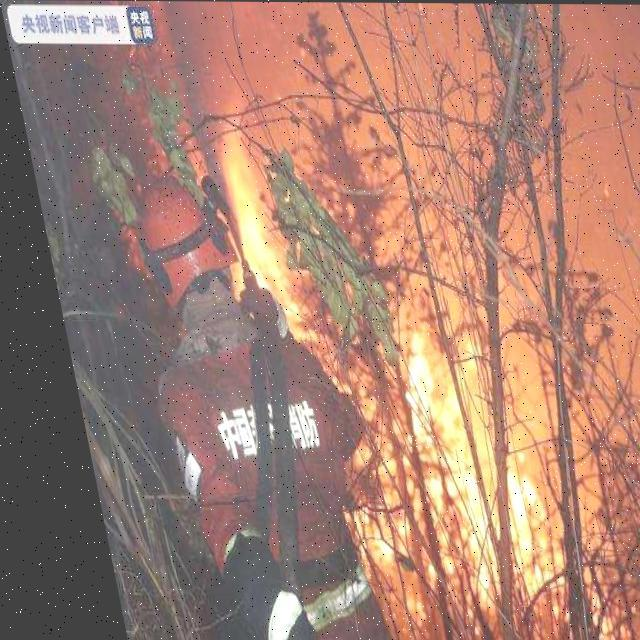Fire: (297, 324, 552, 600), (201, 134, 291, 330)
